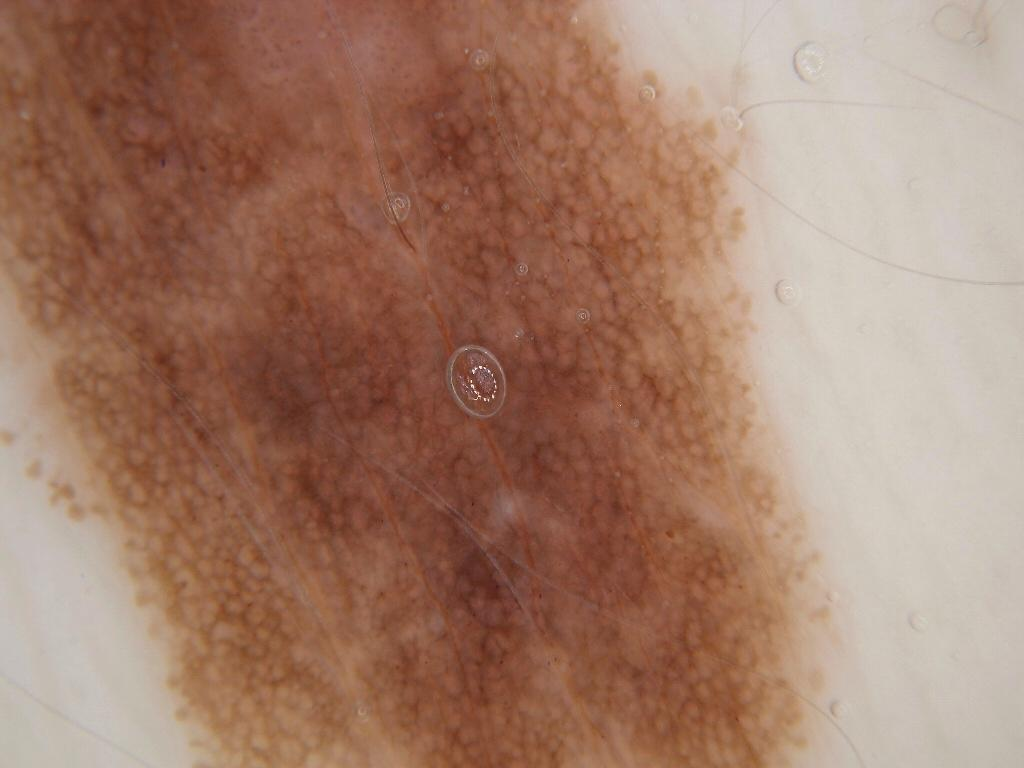Detected Lesion: (1, 2, 846, 768)
